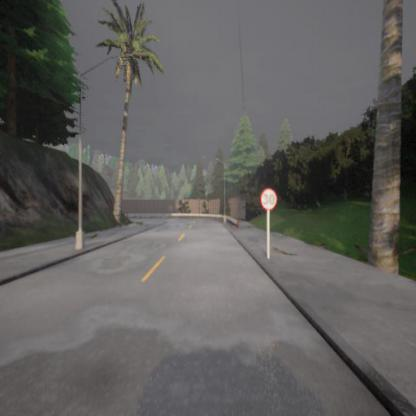traffic_sign_30: (260, 188, 278, 210)
